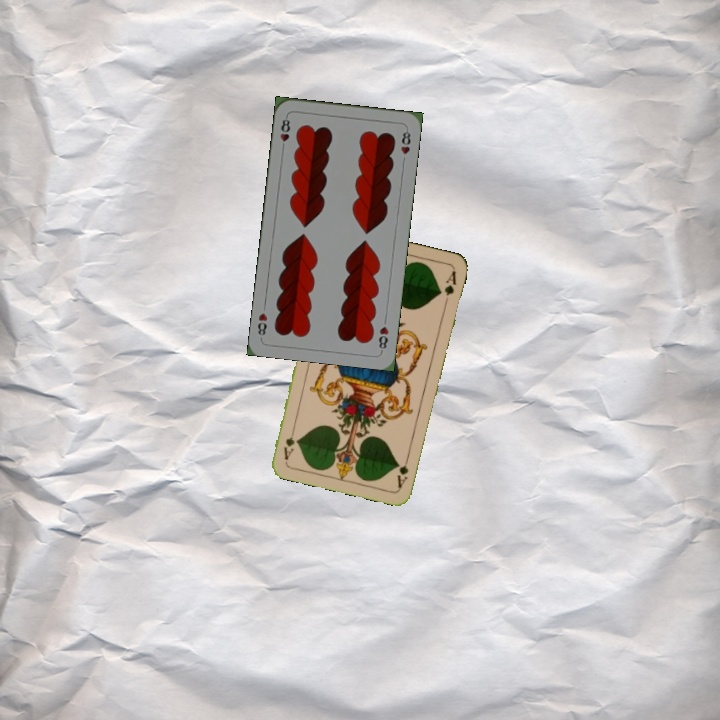GA: (393, 451, 412, 491)
H8: (276, 112, 293, 153), (375, 322, 391, 354)
